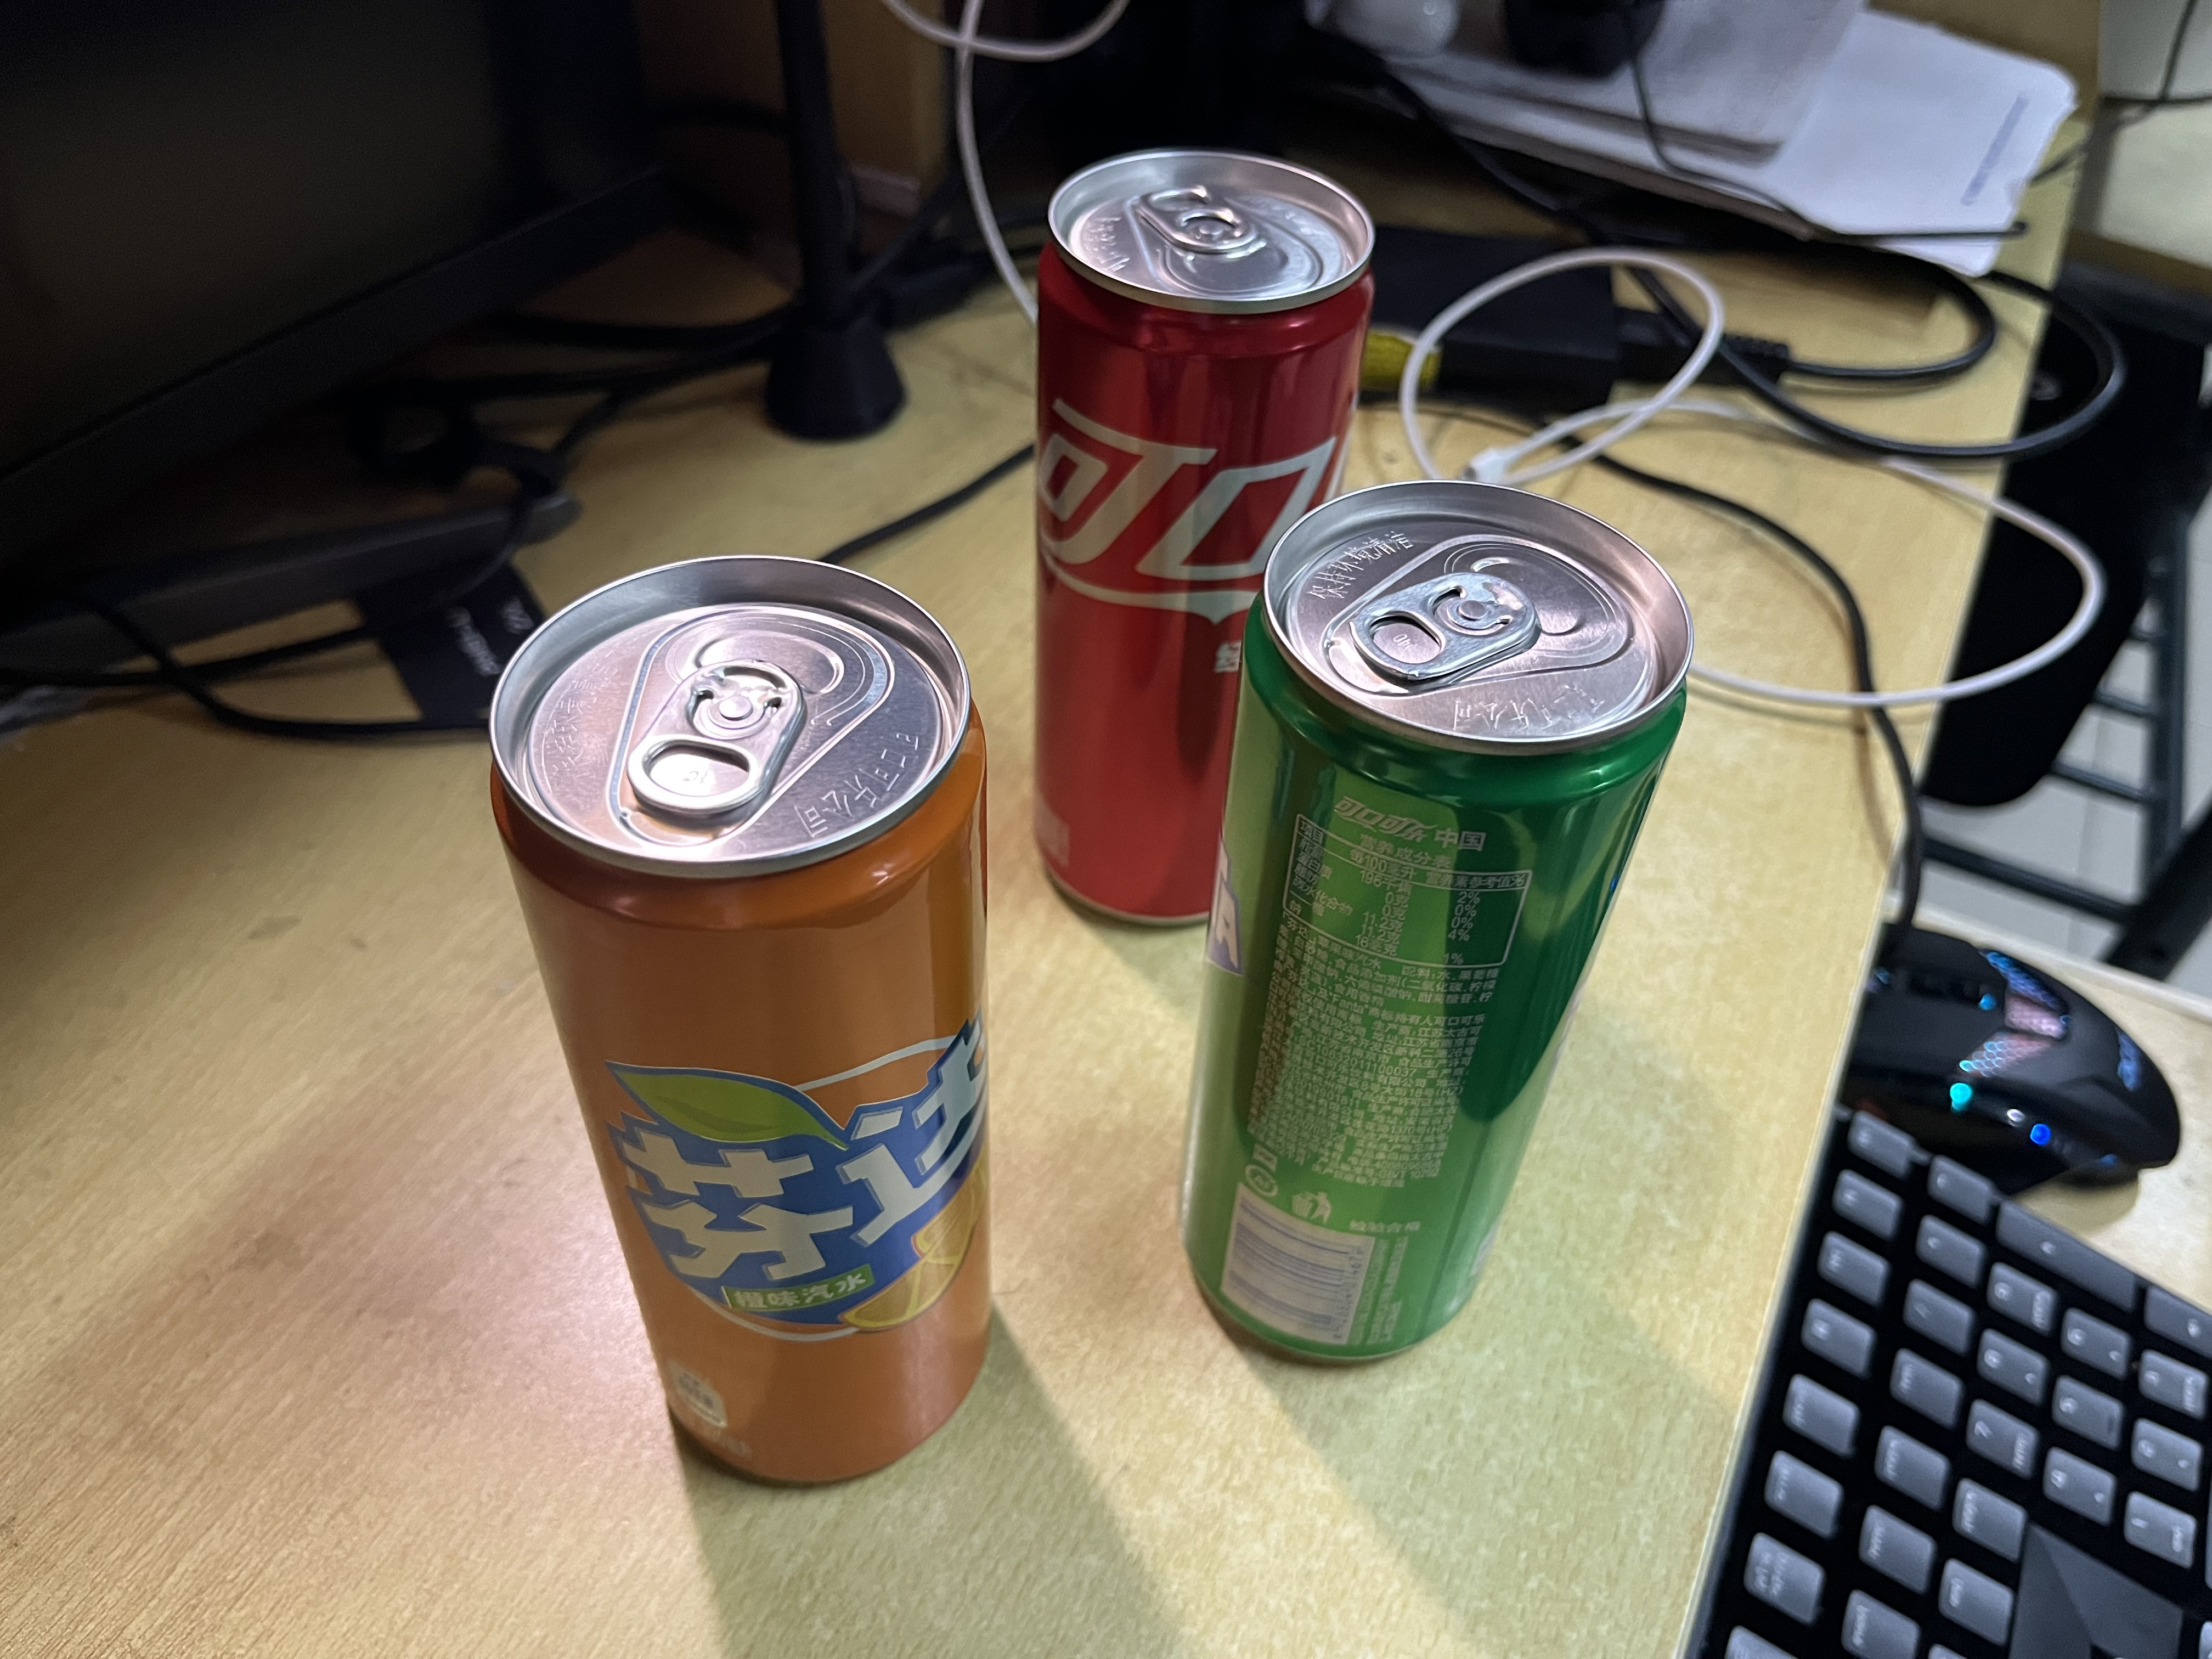CocaCola: (1035, 153, 1371, 932)
FANTA_Apple: (1177, 483, 1693, 1363)
FANTA_Orange: (488, 558, 995, 1485)
